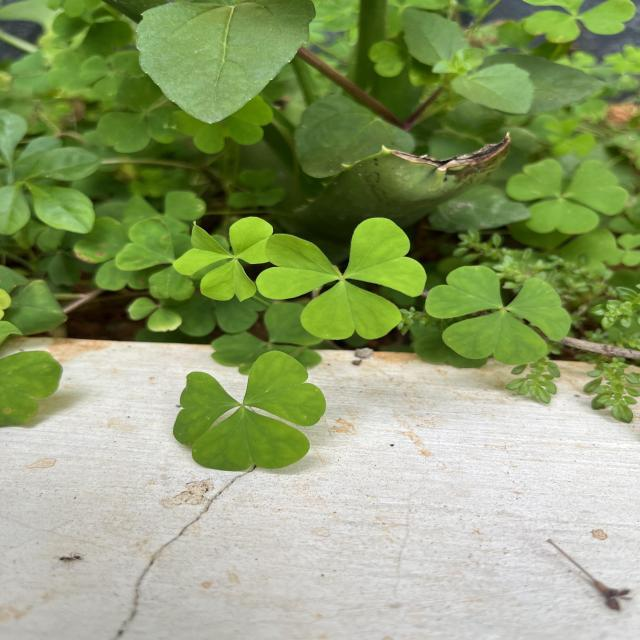Oxalis corniculata: (255, 216, 428, 341), (170, 349, 328, 472), (423, 264, 572, 366), (512, 157, 628, 236), (172, 215, 274, 304)
